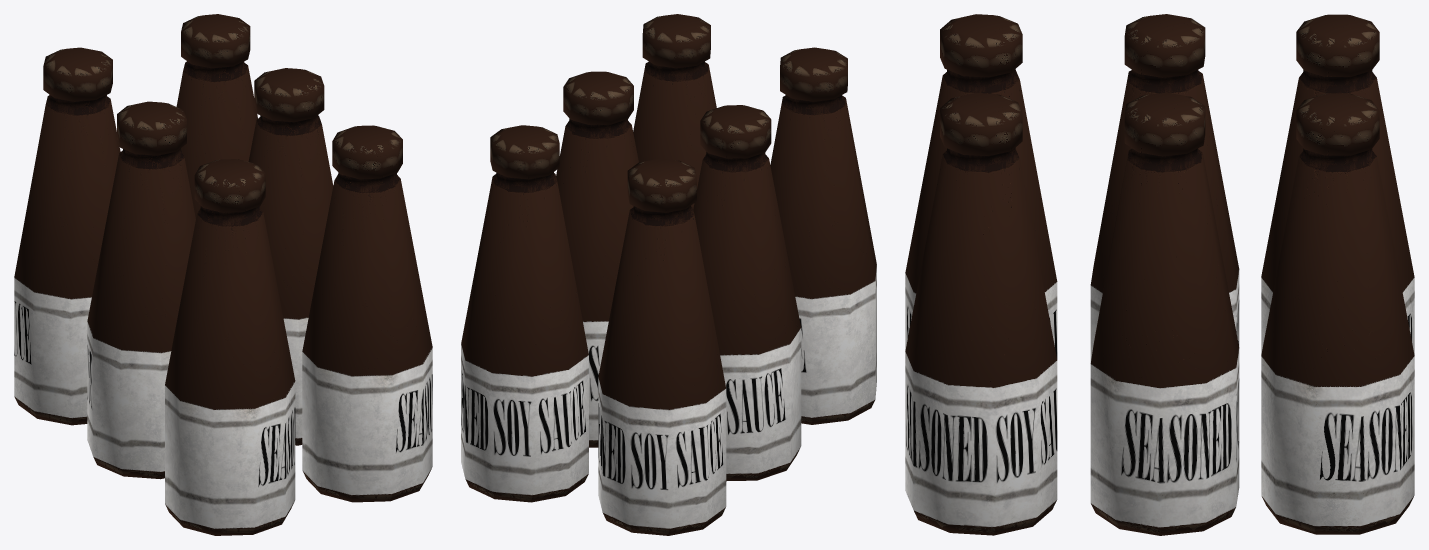
The model's file is soySauce_V1_Large.fbx.
3 views of the same model, side by side, from view 1: azimuth 30°, elevation 25°; view 2: azimuth 150°, elevation 25°; view 3: azimuth 270°, elevation 25° (orthographic). The views are drawn at different scales.
Parts seen in each view (by area): view 1: soySauceV1; view 2: soySauceV1; view 3: soySauceV1.
Boxes of the visible parts, <box> form: soySauceV1: <box>14,14,432,535</box>; soySauceV1: <box>461,14,876,535</box>; soySauceV1: <box>905,14,1414,535</box>.
Size of the model in its own units: 442 by 577 by 664.
1 material, 1 textured.
